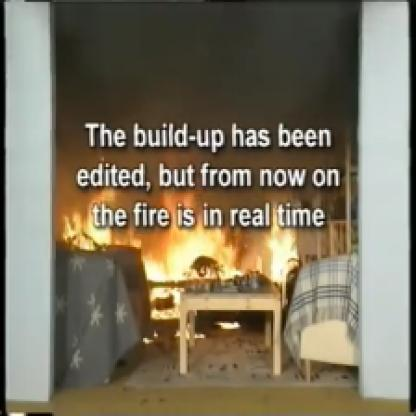fire: (60, 184, 232, 279), (135, 262, 203, 330), (254, 214, 311, 290), (214, 306, 247, 340)
